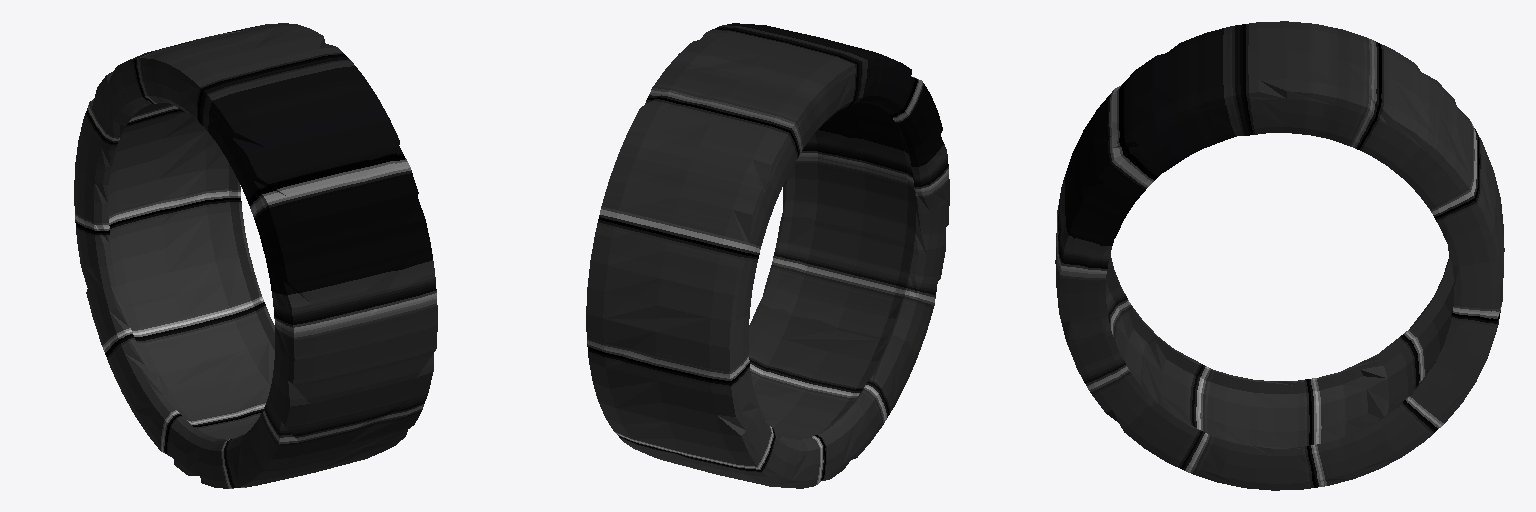
3 views of the same model, side by side, from view 1: azimuth 30°, elevation 25°; view 2: azimuth 150°, elevation 25°; view 3: azimuth 270°, elevation 25° (orthographic).
Visible parts, largest first — view 1: Object045; view 2: Object045; view 3: Object045.
Boxes of the visible parts, x1=… form: Object045: x1=74, y1=23, x2=437, y2=488; Object045: x1=586, y1=23, x2=949, y2=488; Object045: x1=1055, y1=21, x2=1504, y2=490.
Bounding box in the file's own units: 0.7786 × 2.07 × 2.07.
1 materials, 1 textured.